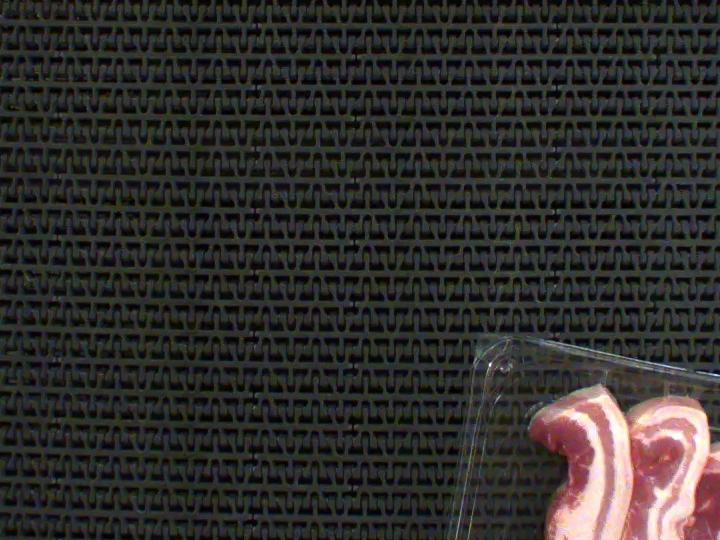packaging-error: (583, 357, 616, 398)
